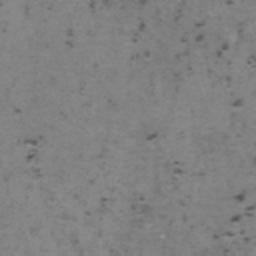Oxide scale of temperature system: (3, 135, 163, 247), (130, 8, 256, 107), (212, 189, 256, 240), (65, 28, 75, 49), (144, 131, 159, 141), (97, 147, 109, 159), (88, 0, 96, 14), (107, 98, 117, 109), (24, 4, 31, 19), (30, 227, 40, 235)
